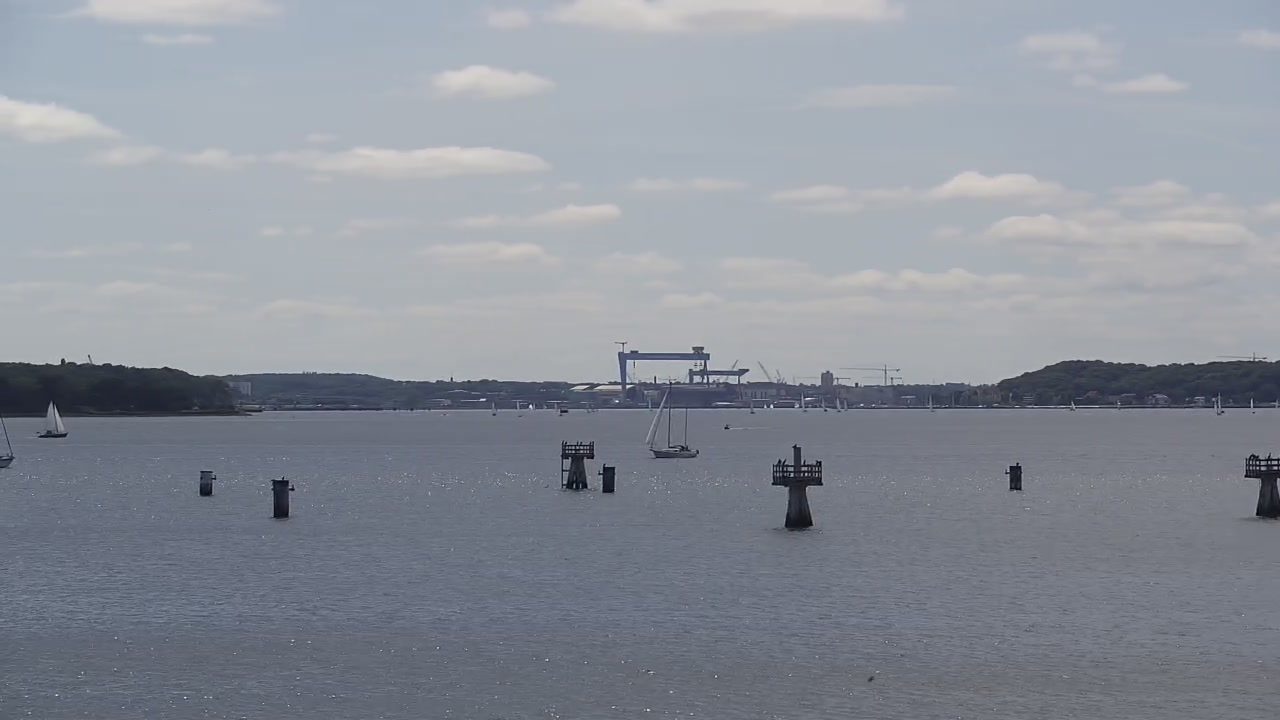sea: (645, 381, 698, 458), (35, 399, 68, 439), (1, 413, 15, 469), (1217, 391, 1225, 413), (800, 392, 808, 413), (748, 398, 756, 415), (1213, 399, 1221, 415), (515, 399, 522, 417), (820, 397, 828, 412), (929, 394, 935, 413), (1250, 397, 1256, 414), (491, 400, 497, 416), (835, 396, 841, 412), (843, 398, 849, 412), (1070, 399, 1076, 411), (724, 424, 731, 430)
